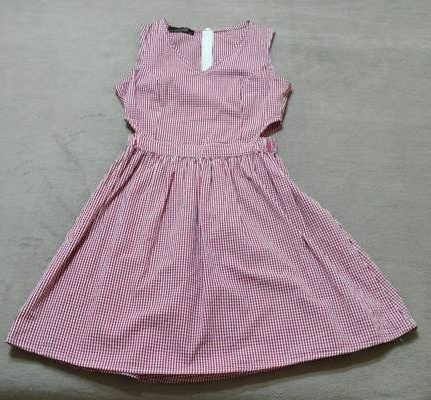Dress: (2, 11, 416, 388)
